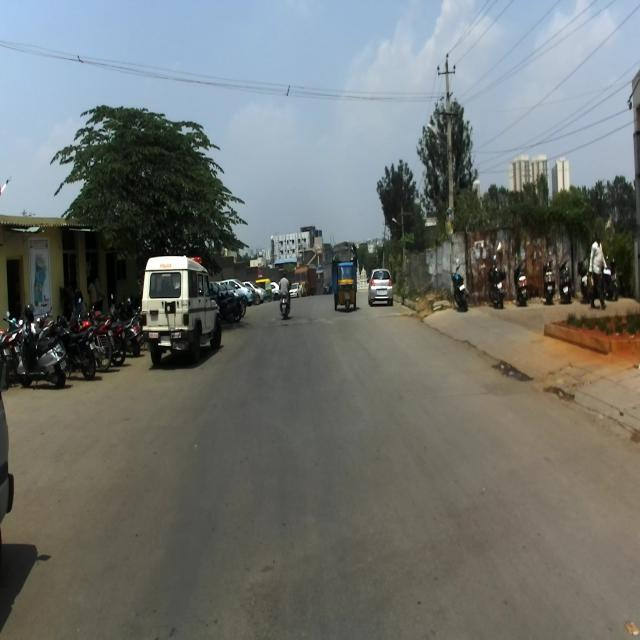Car: (367, 266, 393, 308)
Car_Mahindra: (140, 252, 222, 366)
autorickshaw: (331, 240, 358, 312)
motorcycle_Yamaha: (448, 257, 468, 312)
motorcycle_bajaj: (42, 312, 98, 383), (68, 312, 114, 374)
scooter: (16, 303, 68, 390), (108, 293, 141, 355), (511, 262, 531, 306), (557, 258, 573, 304), (542, 259, 556, 304), (279, 285, 291, 319)
